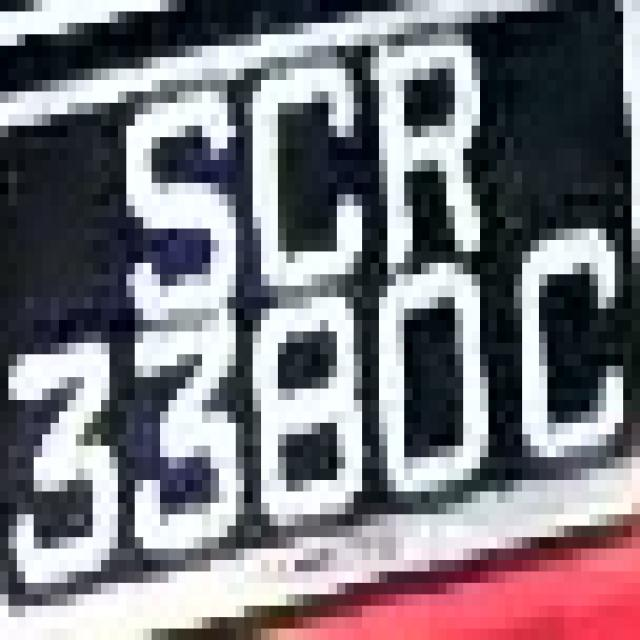0: (362, 263, 522, 526)
3: (126, 320, 245, 571), (25, 297, 118, 617)
8: (245, 263, 388, 560)
C: (227, 57, 379, 332), (505, 217, 623, 492)
R: (362, 34, 505, 286)
S: (101, 92, 244, 354)
